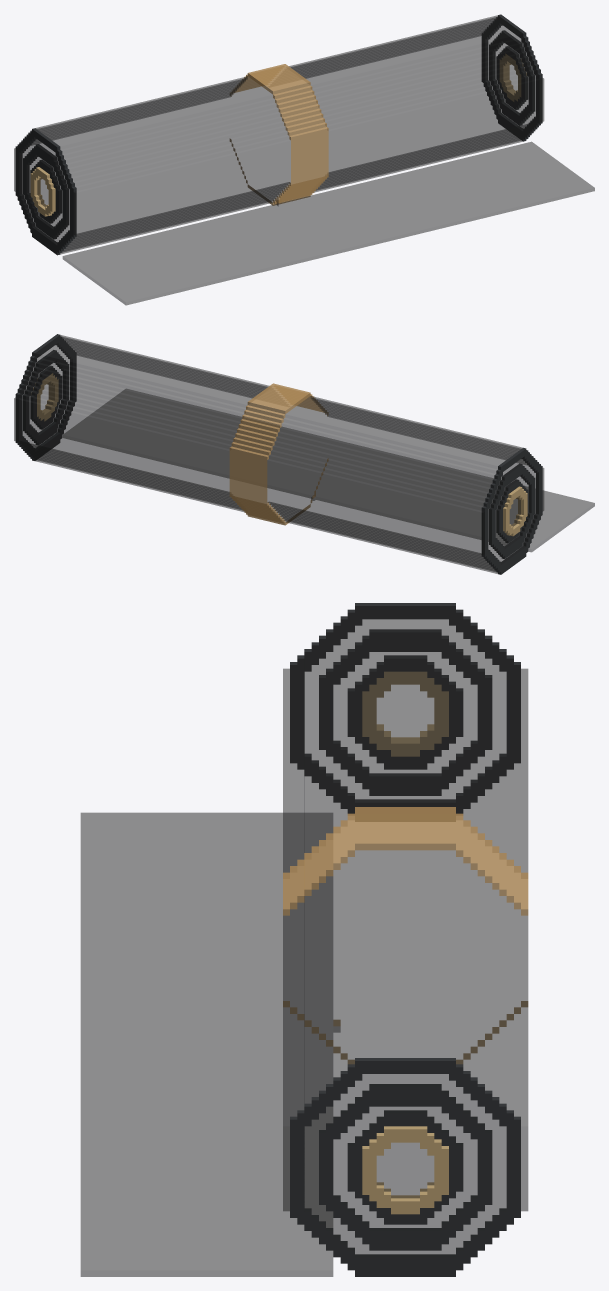
The model's file is screen_mesh.glb.
3 views of the same model, one above another, from view 1: azimuth 30°, elevation 25°; view 2: azimuth 150°, elevation 25°; view 3: azimuth 270°, elevation 25° (orthographic). The views are drawn at different scales.
Parts seen in each view (by area): view 1: screen_mesh:compound; view 2: screen_mesh:compound; view 3: screen_mesh:compound.
Boxes of the visible parts, bbox=[...] form: screen_mesh:compound: bbox=[14, 14, 594, 305]; screen_mesh:compound: bbox=[14, 334, 594, 574]; screen_mesh:compound: bbox=[80, 603, 528, 1276].
Size of the model in its own units: 0.304 by 0.07 by 0.124.
